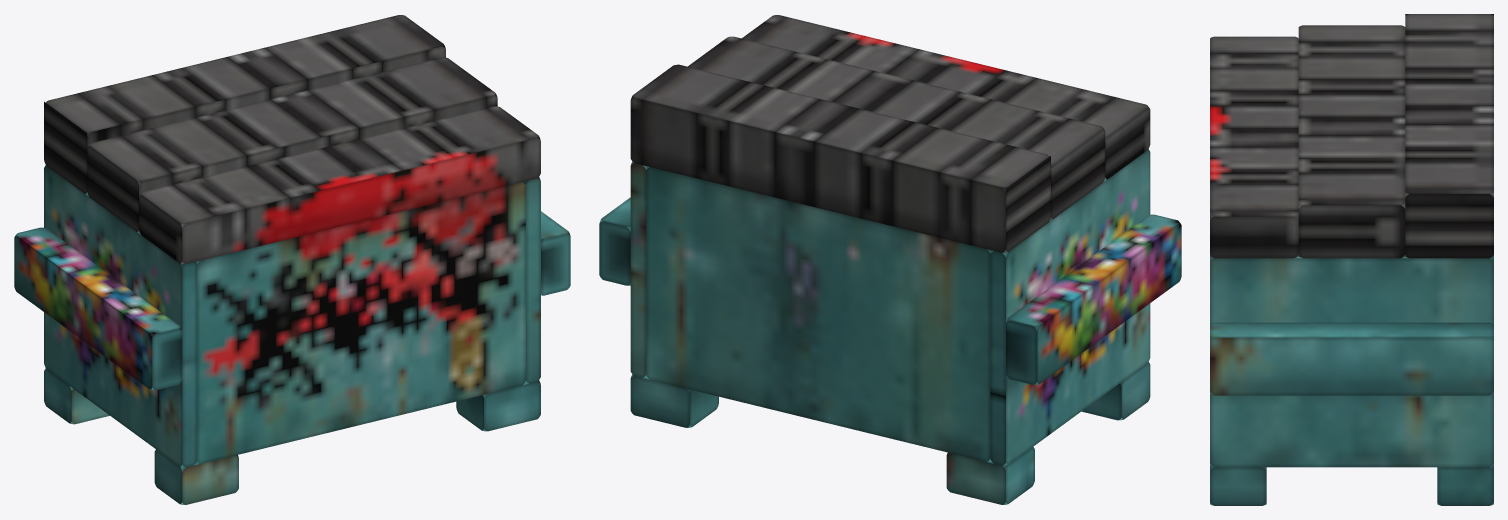
File: Prügikast.fbx
3 renders of one model, left to right at view 1: azimuth 30°, elevation 25°; view 2: azimuth 150°, elevation 25°; view 3: azimuth 270°, elevation 25°, orthographic. The views are drawn at different scales.
Visible parts, largest first — view 1: cube_10, cube_4, cube_3, cube_2, cube_11, cube, cube_5, cube_12, cube_7, cube_1, cube_6; view 2: cube_13, cube_2, cube_11, cube_3, cube, cube_4, cube_12, cube_6, cube_8, cube_1, cube_5; view 3: cube_12, cube_3, cube_2, cube_1, cube_4, cube_7, cube_8.
Boxes of the visible parts, left/top/right/bottom form: cube_10: left=194, top=182, right=525, bottom=463; cube_4: left=139, top=106, right=540, bottom=264; cube_3: left=87, top=57, right=497, bottom=232; cube_2: left=44, top=15, right=445, bottom=193; cube_11: left=44, top=165, right=196, bottom=467; cube: left=14, top=227, right=182, bottom=390; cube_5: left=154, top=449, right=238, bottom=504; cube_12: left=522, top=177, right=540, bottom=383; cube_7: left=456, top=380, right=540, bottom=431; cube_1: left=541, top=211, right=570, bottom=295; cube_6: left=44, top=368, right=109, bottom=424; cube_13: left=646, top=167, right=991, bottom=461; cube_2: left=630, top=64, right=1050, bottom=252; cube_11: left=990, top=149, right=1150, bottom=465; cube_3: left=688, top=36, right=1105, bottom=219; cube: left=1006, top=214, right=1181, bottom=384; cube_4: left=742, top=15, right=1150, bottom=179; cube_12: left=630, top=161, right=648, bottom=377; cube_6: left=946, top=447, right=1034, bottom=504; cube_8: left=630, top=374, right=718, bottom=427; cube_1: left=599, top=197, right=630, bottom=285; cube_5: left=1081, top=362, right=1150, bottom=420; cube_12: left=1210, top=256, right=1493, bottom=467; cube_3: left=1298, top=25, right=1405, bottom=258; cube_2: left=1405, top=14, right=1493, bottom=258; cube_1: left=1210, top=322, right=1493, bottom=395; cube_4: left=1210, top=36, right=1298, bottom=258; cube_7: left=1210, top=464, right=1266, bottom=505; cube_8: left=1437, top=465, right=1493, bottom=505.
Bounding box in the file's own units: 175 × 121 × 100.
Materials: 1 (1 with a texture image).
